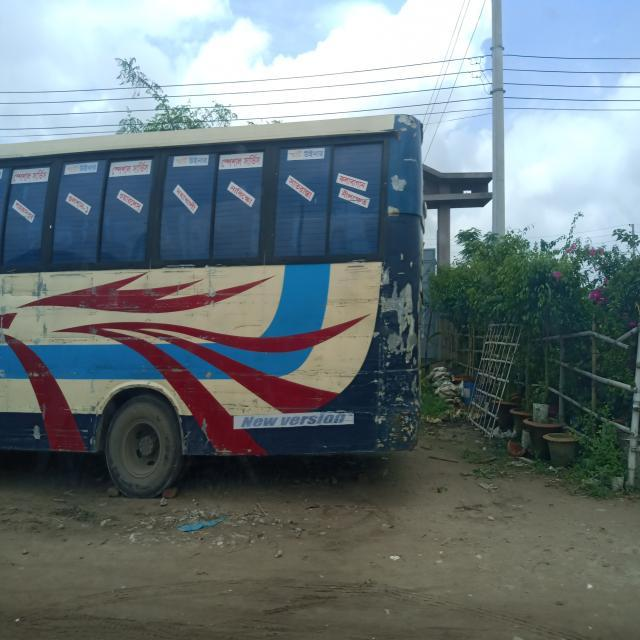bus: (0, 114, 426, 500)
